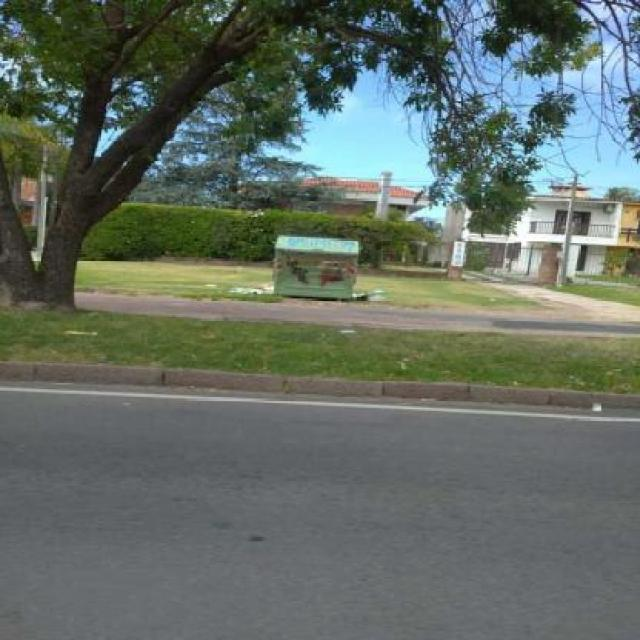garbage: (225, 280, 275, 298), (348, 285, 392, 299), (62, 326, 104, 338)
